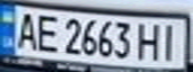2: (60, 15, 84, 56)
3: (112, 19, 136, 60)
6: (78, 17, 100, 57), (96, 18, 115, 58)
A: (9, 9, 42, 51)
E: (33, 11, 60, 53)
H: (136, 19, 163, 62)
I: (157, 20, 184, 61)
